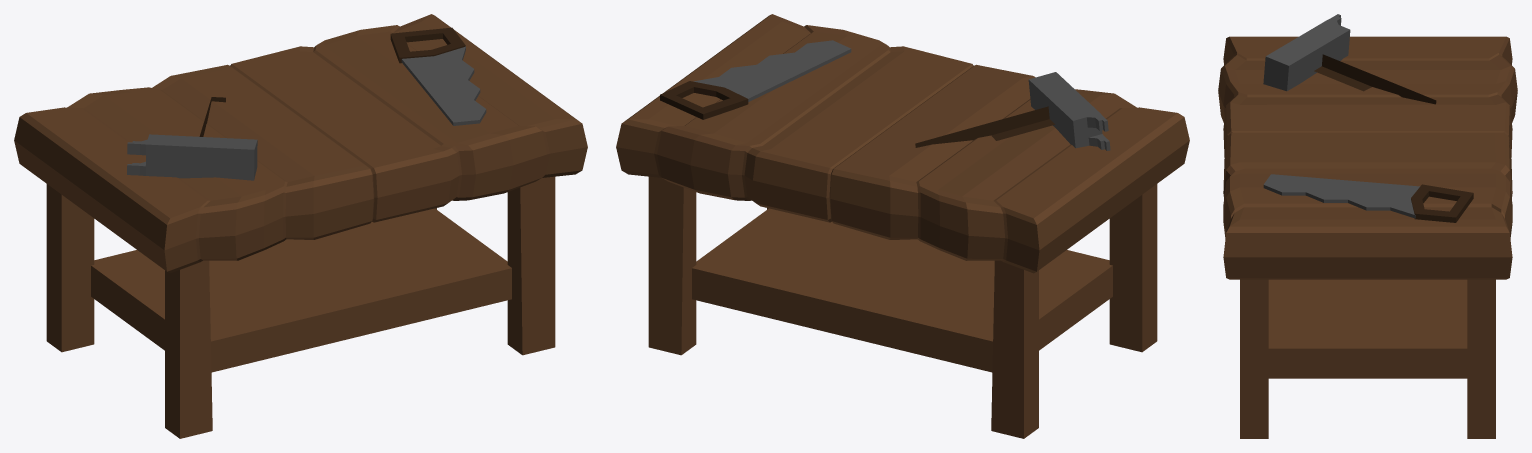
The model's file is craftbox.fbx.
The picture shows the model from 3 angles, left to right: view 1: azimuth 30°, elevation 25°; view 2: azimuth 150°, elevation 25°; view 3: azimuth 270°, elevation 25°; orthographic projection. The views are drawn at different scales.
Visible parts, largest first — view 1: Cube.002; view 2: Cube.002; view 3: Cube.002.
Part boxes in pixels (box(x1,y1,x2,y2)): Cube.002: box(14, 14, 587, 438); Cube.002: box(616, 14, 1189, 438); Cube.002: box(1218, 14, 1517, 438).
Size of the model in its own units: 77.11 by 44.99 by 49.2.
